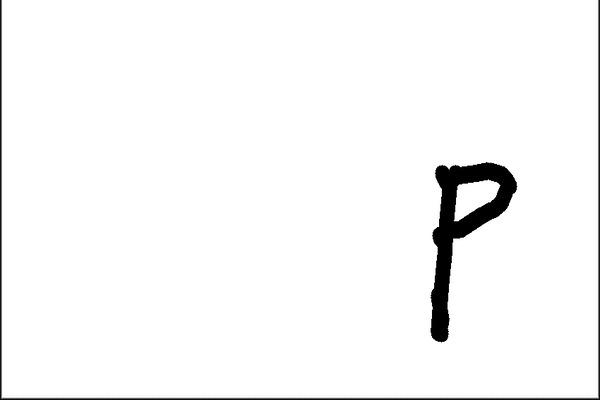P: (413, 151, 523, 344)
